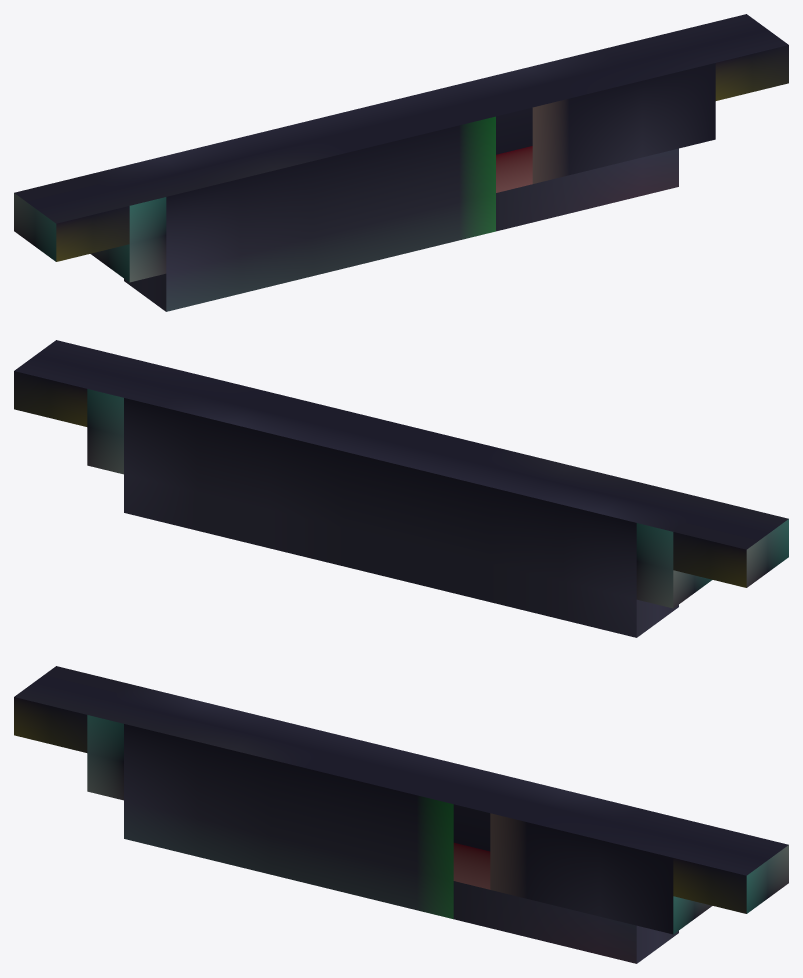
Rendered from Electronics_Stick_E_00.fbx.
3 views of the same model, one above another, from view 1: azimuth 30°, elevation 25°; view 2: azimuth 150°, elevation 25°; view 3: azimuth 330°, elevation 25° (orthographic).
Visible parts, largest first — view 1: Electronics_Stick_E_00; view 2: Electronics_Stick_E_00; view 3: Electronics_Stick_E_00.
Boxes of the visible parts, x1,y1,x2,y2 form: Electronics_Stick_E_00: [14, 14, 788, 311]; Electronics_Stick_E_00: [14, 340, 788, 637]; Electronics_Stick_E_00: [14, 666, 788, 963].
Bounding box in the file's own units: 100 × 15 × 10.
